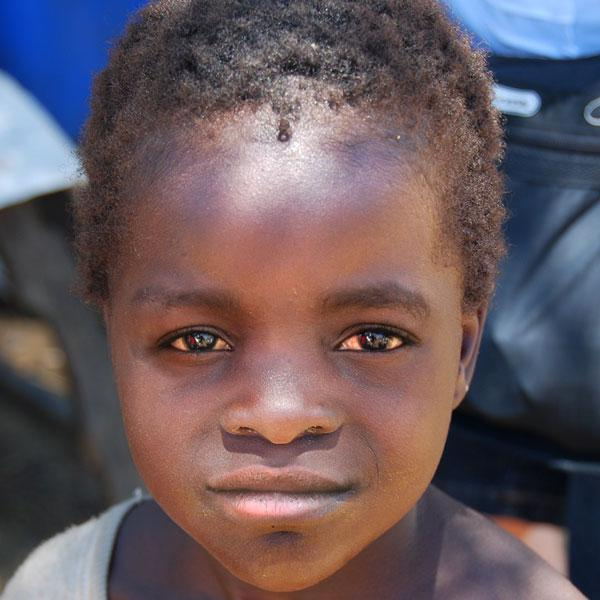Eyes: (151, 314, 241, 370), (321, 315, 425, 361)
